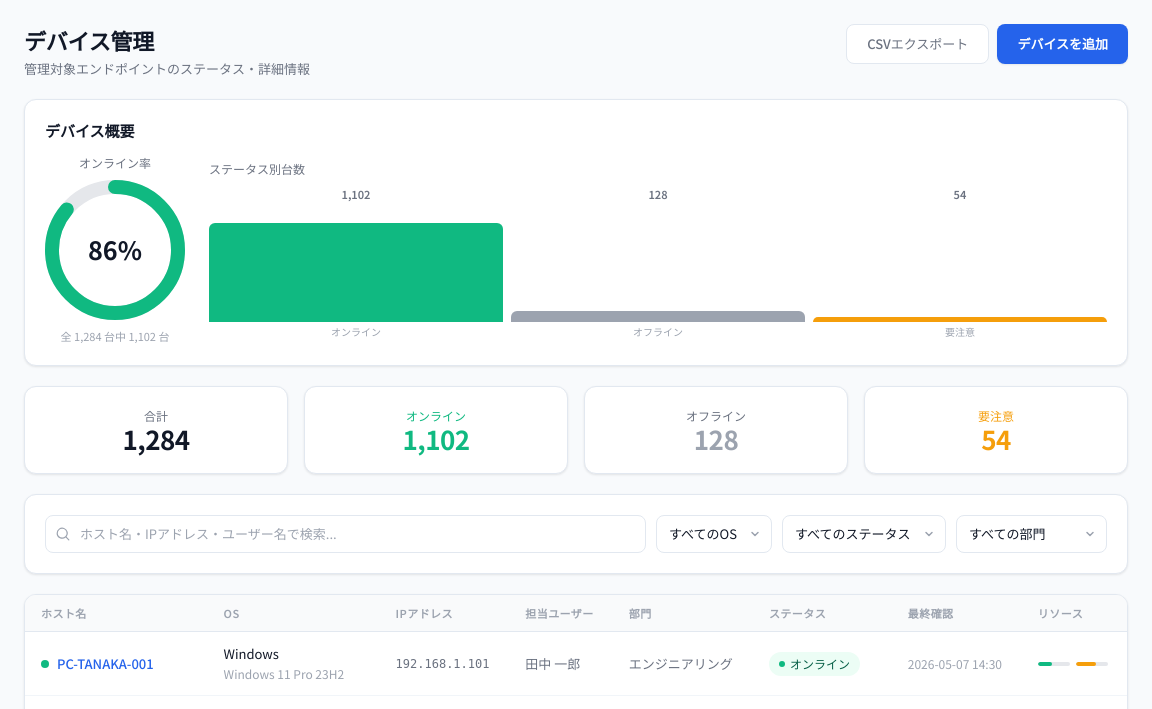
Test: DevicesPage - OS フィルター › OS フィルターを all に戻すと全件表示される
Select "Windows" in the 1st dropdown showing "すべてのOS". click: [714, 534]
box: [656,515,772,553]
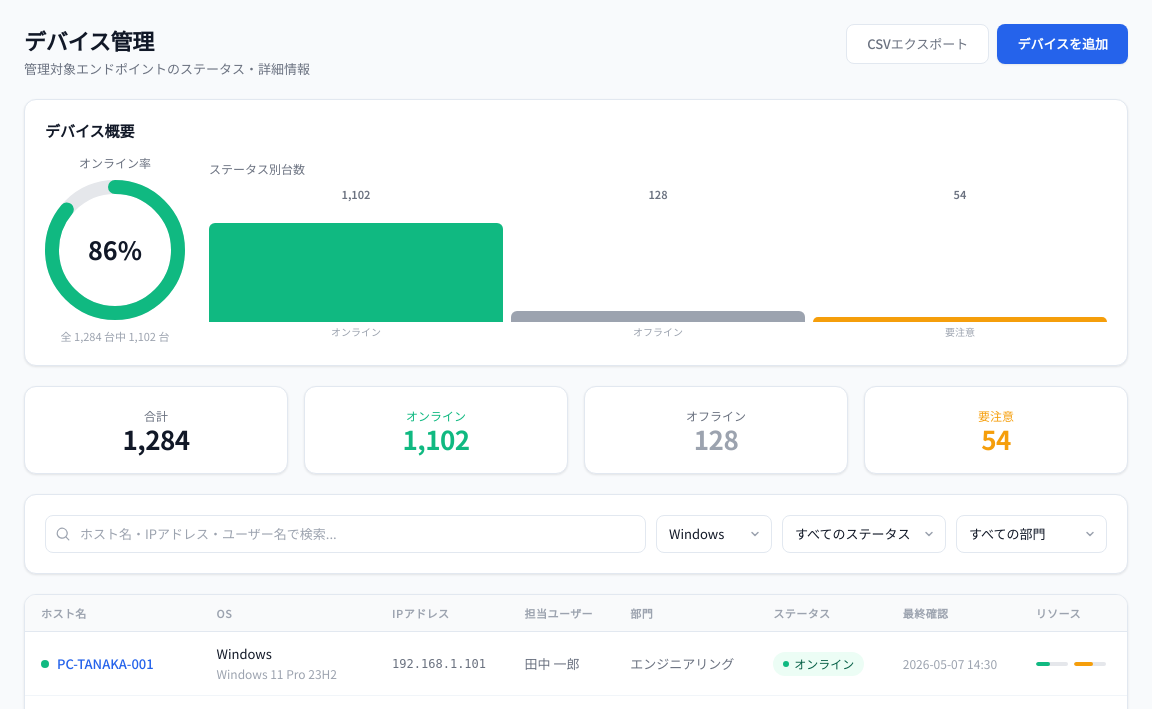
Select "すべてのOS" in the 1st dropdown showing "すべてのOS". click: [714, 534]
box: [656,515,772,553]
(page scrolled)
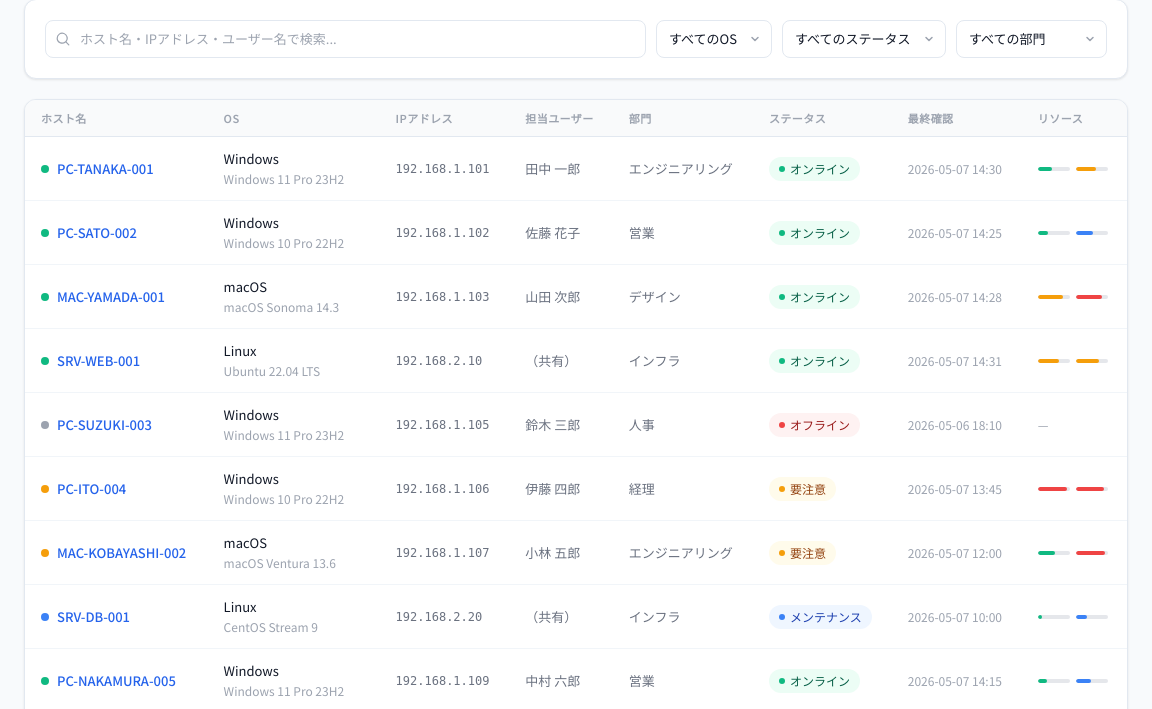
Result: the text "MAC-YAMADA-001" is shown at [57,287,165,306]
Result: the text "SRV-WEB-001" is shown at [57,351,140,370]
